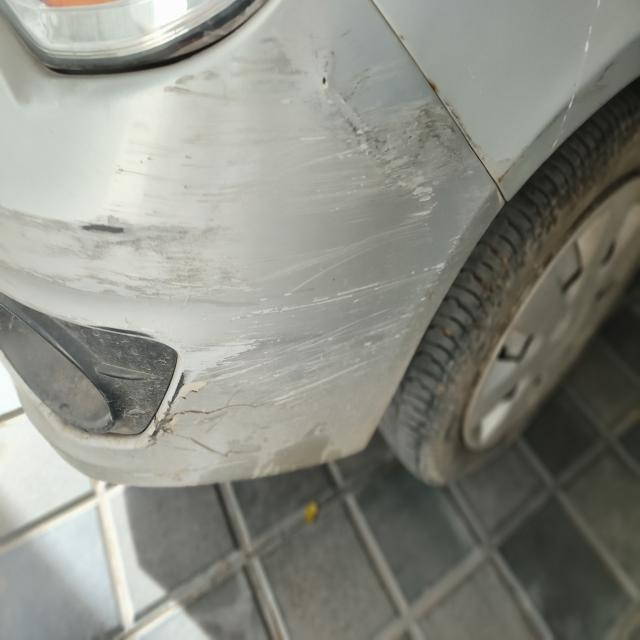scratch: (0, 48, 485, 493), (487, 60, 622, 204)
